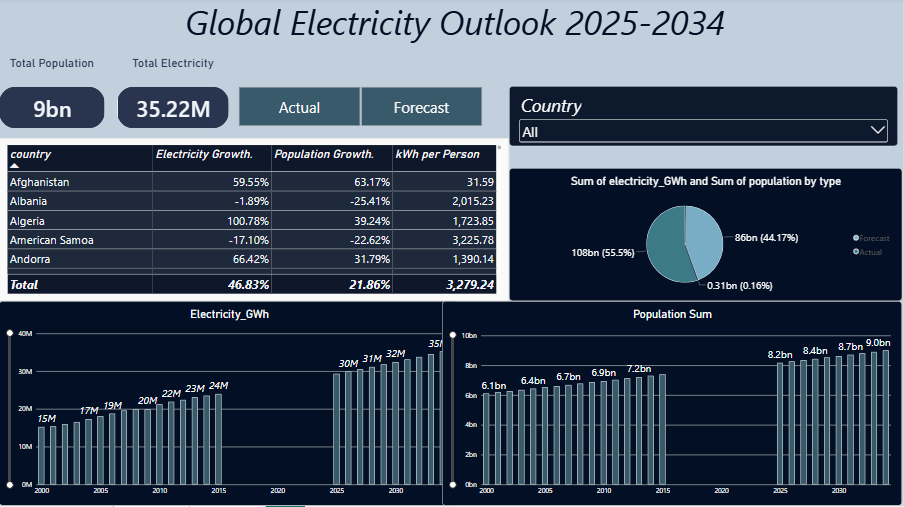

Layout of this report page (visuals, bound fields, positions):
{"tool":"powerbi","page":{"name":"Page 1","canvas":[1920,1080],"ordinal":0},"visuals":[{"type":"tableEx","fields":{"Values":["powerb!_final.country","powerb!_final.Electricity Growth.","powerb!_final.Population Growth.","powerb!_final.kWh per Person"]},"box":[0,297.5,1085,347.5],"z":0},{"type":"slicer","title":"TYY","fields":{"Values":["powerb!_final.country"]},"box":[1084.3,187.1,827,127.6],"z":1000},{"type":"lineStackedColumnComboChart","title":" Electricity_GWh","fields":{"Category":["powerb!_final.year"],"Y":["Sum(powerb!_final.electricity_GWh)"]},"box":[0,645,977.5,435],"z":2000},{"type":"lineStackedColumnComboChart","title":"Population Sum","fields":{"Category":["powerb!_final.year"],"Y":["Sum(powerb!_final.population)"]},"box":[942.5,645,977.5,435],"z":3000},{"type":"textbox","box":[20,0,1900,97.5],"z":4000},{"type":"cardVisual","title":"Total Population","fields":{"Data":["powerb!_final.Population Latest"]},"box":[0,123.3,225.4,174.3],"z":5000},{"type":"cardVisual","title":"Total Electricity","fields":{"Data":["powerb!_final.Electricity Latest"]},"box":[250.9,123.3,238.1,174.3],"z":6000},{"type":"slicer","fields":{"Values":["powerb!_final.type"]},"box":[489,187.1,557,87.2],"z":7000},{"type":"pieChart","fields":{"Category":["powerb!_final.type"],"Y":["Sum(powerb!_final.electricity_GWh)","Sum(powerb!_final.population)"]},"box":[1084.3,361.4,835.5,282.8],"z":8000}]}

Visuals, with their boxes in screenshot pixels (x1, y1, x2, y2), scaled from the page's 1920x1080 canvas onto the 904x507 screenshot:
tableEx - powerb!_final.country x powerb!_final.Electricity Growth.: select_region(0, 140, 511, 303)
"TYY" slicer: select_region(511, 88, 900, 148)
" Electricity_GWh" lineStackedColumnComboChart: select_region(0, 303, 460, 506)
"Population Sum" lineStackedColumnComboChart: select_region(444, 303, 903, 506)
textbox: select_region(9, 0, 903, 46)
"Total Population" cardVisual: select_region(0, 58, 106, 140)
"Total Electricity" cardVisual: select_region(118, 58, 230, 140)
slicer - powerb!_final.type: select_region(230, 88, 492, 129)
pieChart - powerb!_final.type x Sum(powerb!_final.electricity_GWh): select_region(511, 170, 903, 302)
